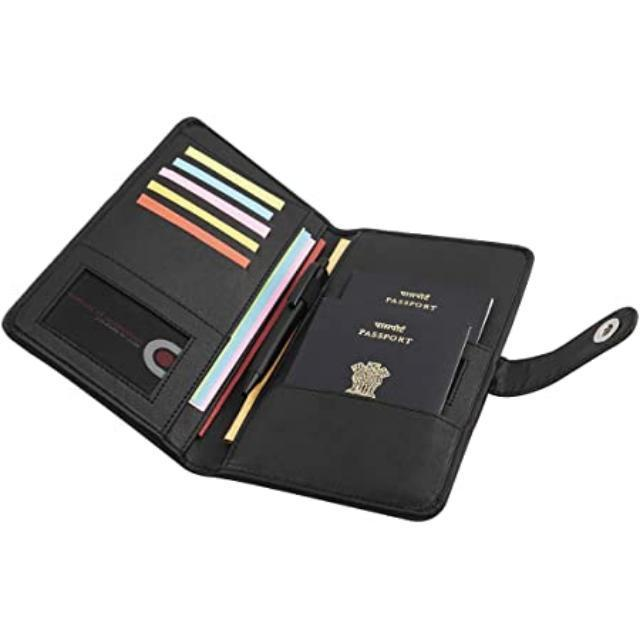wallet: (0, 76, 590, 536)
